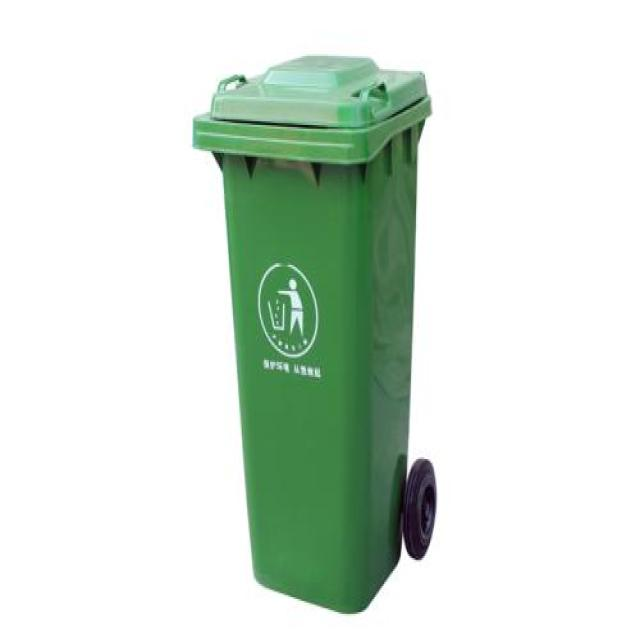garbage_bin: (191, 54, 431, 612)
